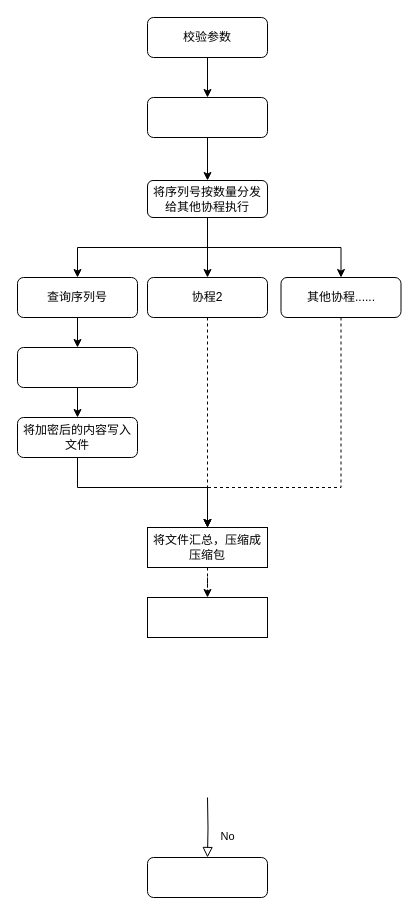
This 419x915 diagram has some shape labels left out. The box of each missing label's shape, as (x1, y1, x2, y2) in pixels:
Repair Lamp: (146, 856, 268, 898)
对序列号和其他关键信息进行加密: (16, 346, 138, 388)
将压缩包上传到oss服务: (146, 596, 268, 638)
统计该订单序列号数量: (146, 96, 268, 138)
